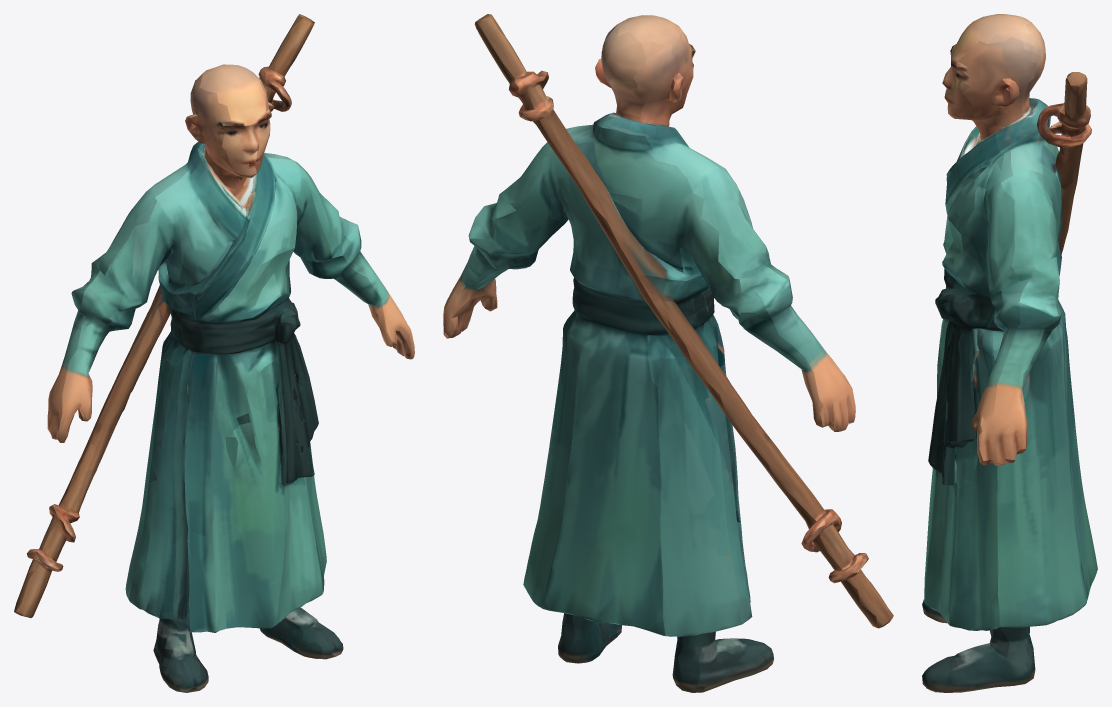
Rendered from yaoshan_textured.glb.
3 views of the same model, side by side, from view 1: azimuth 30°, elevation 25°; view 2: azimuth 150°, elevation 25°; view 3: azimuth 270°, elevation 25° (orthographic). The views are drawn at different scales.
Visible parts, largest first — view 1: geometry_0; view 2: geometry_0; view 3: geometry_0.
Boxes of the visible parts, left/top/right/bottom form: geometry_0: left=14, top=14, right=414, bottom=692; geometry_0: left=443, top=14, right=893, bottom=692; geometry_0: left=922, top=14, right=1097, bottom=692.
Size of the model in its own units: 1.24 by 1.75 by 0.4389.
Materials: 1 (1 with a texture image).
